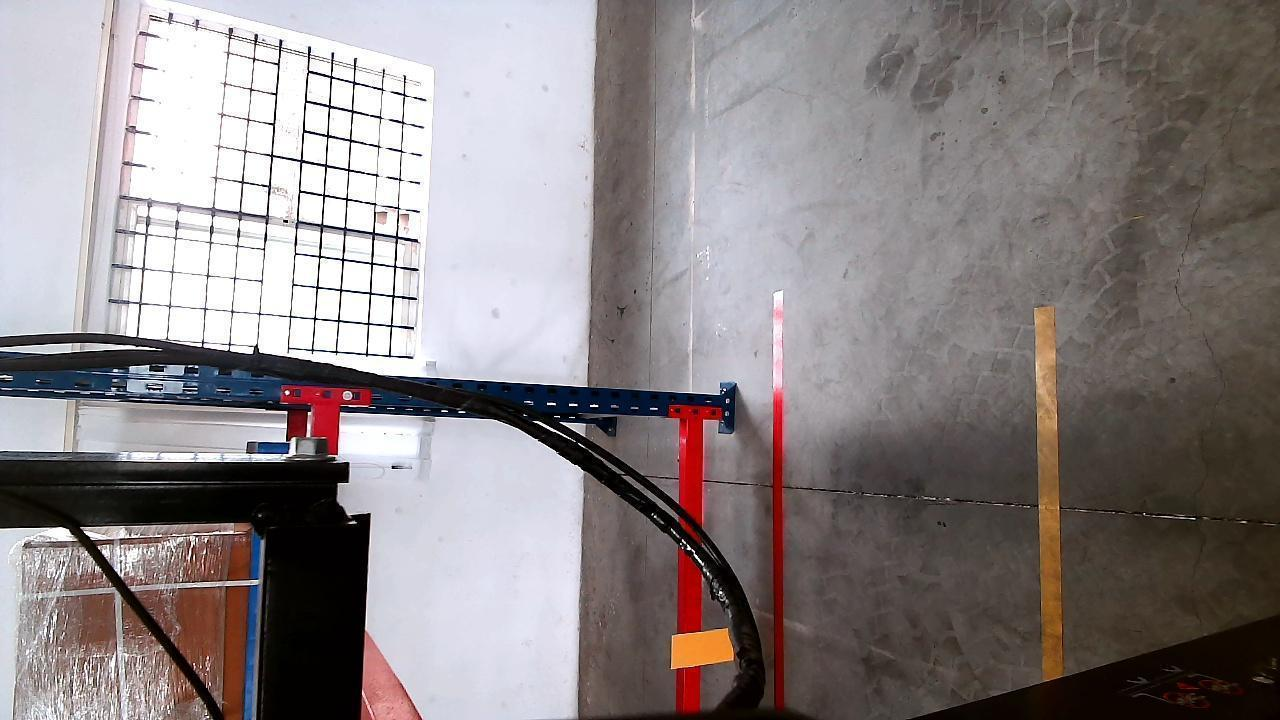red_line: (767, 331, 790, 702)
yellow_line: (1035, 300, 1066, 685)
